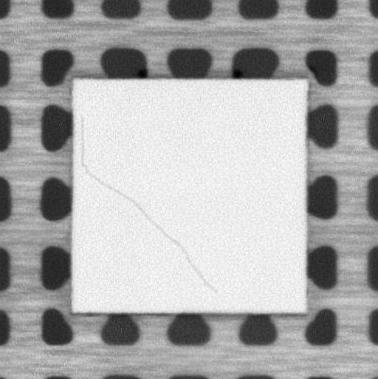DIE_CRACK: (78, 112, 218, 295)
